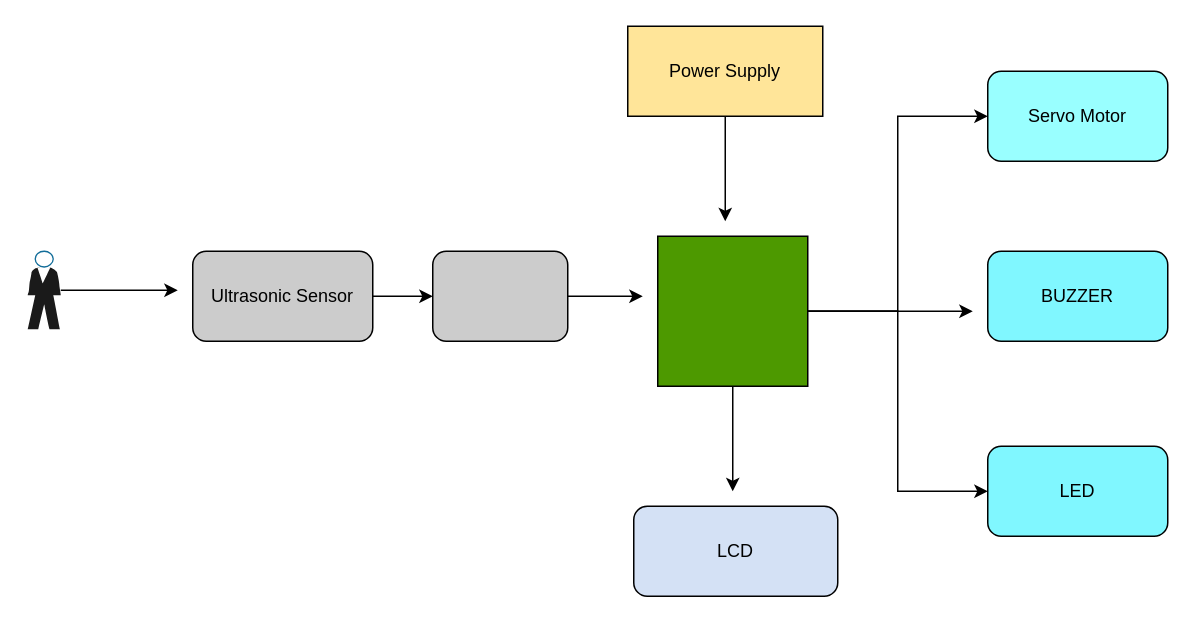
The diagram is 1194 pixels wide and 623 high, and some of its shapes have lost their labels. The box of each missing label's shape, as (x1, y1, x2, y2) in pixels:
ADC: (431, 250, 568, 341)
Arduino UNO: (656, 235, 808, 386)
